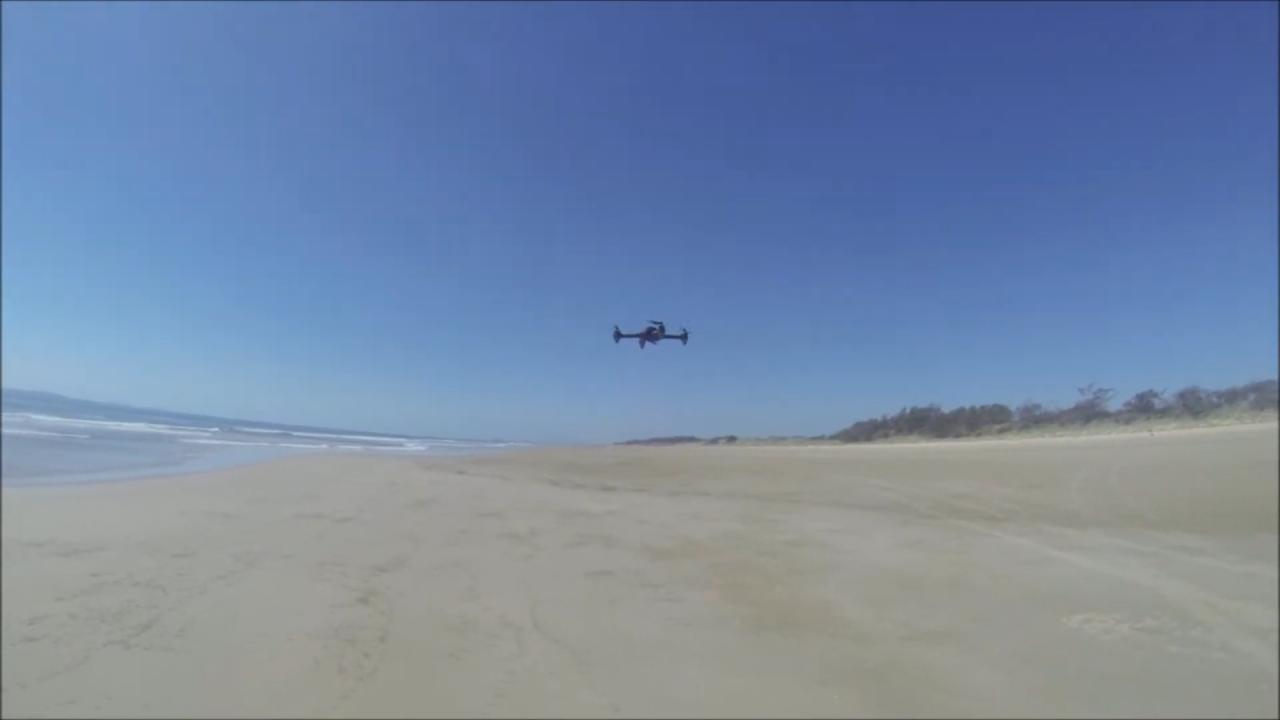Drone: (600, 310, 704, 359)
